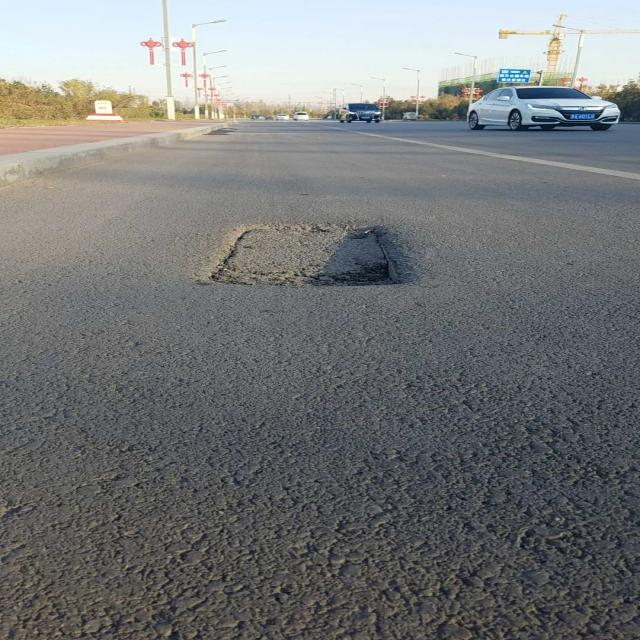Pothole: (204, 225, 417, 288)
